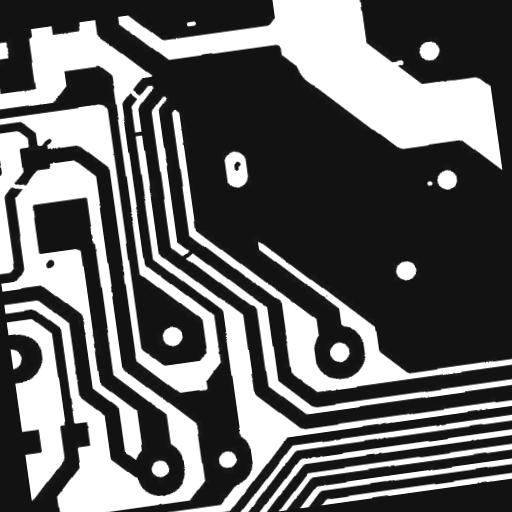copper: (37, 250, 63, 276), (225, 152, 250, 179)
mousebite: (187, 372, 216, 400), (382, 51, 412, 75)
open: (0, 172, 37, 201), (118, 76, 149, 110)
pin-hole: (178, 13, 204, 35), (418, 172, 440, 194)
short: (168, 238, 208, 270), (125, 122, 155, 145)
spur: (32, 130, 60, 156), (0, 70, 9, 93)
